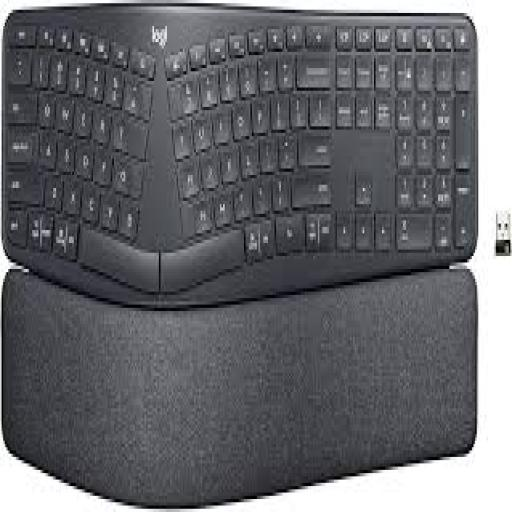keyboard: (2, 6, 477, 301)
